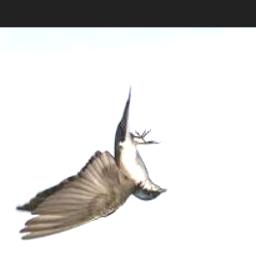Swallow: (15, 85, 166, 240)
